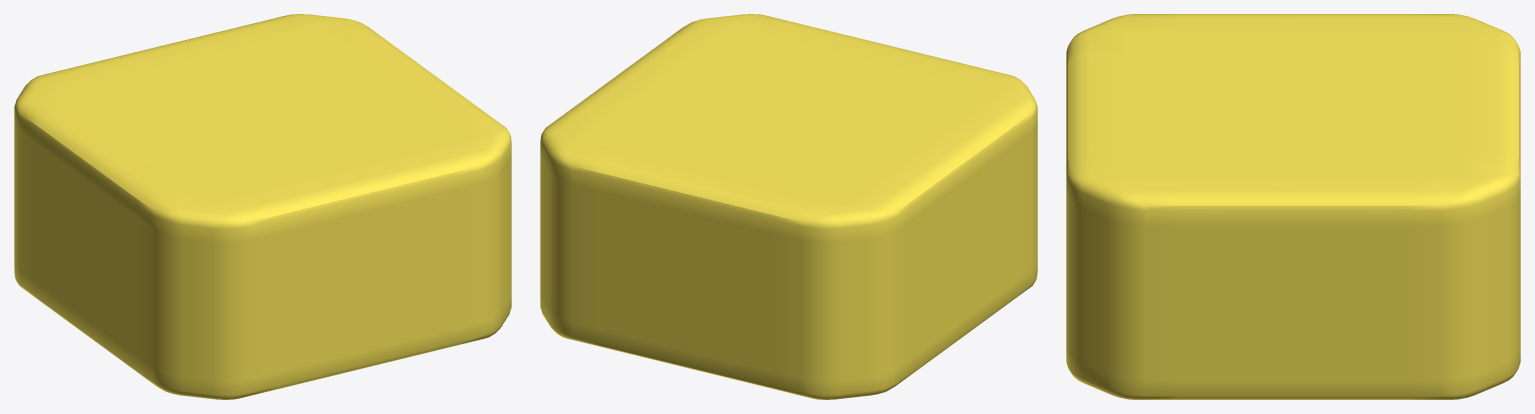
The model's file is consoleButtonTest.fbx.
3 views of the same model, side by side, from view 1: azimuth 30°, elevation 25°; view 2: azimuth 150°, elevation 25°; view 3: azimuth 270°, elevation 25° (orthographic). The views are drawn at different scales.
Visible parts, largest first — view 1: Cube.024; view 2: Cube.024; view 3: Cube.024.
Boxes of the visible parts, left/top/right/bottom form: Cube.024: left=14, top=14, right=511, bottom=399; Cube.024: left=540, top=14, right=1037, bottom=399; Cube.024: left=1066, top=14, right=1520, bottom=399.
Size of the model in its own units: 160 by 80 by 160.
